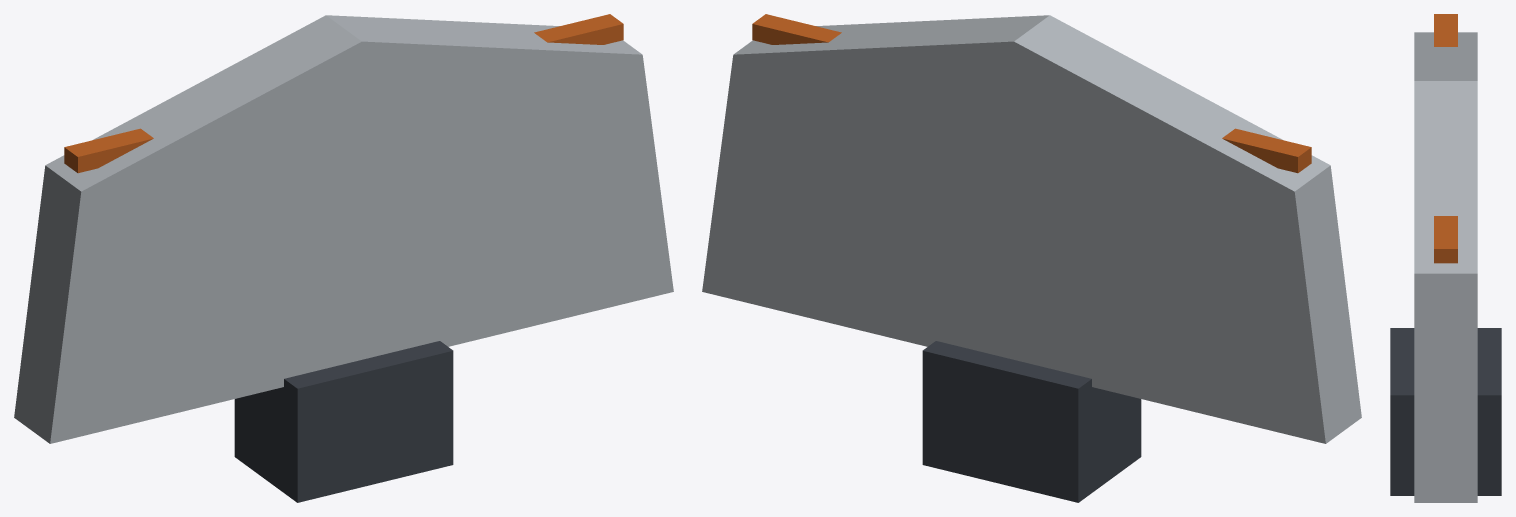
The model's file is mod-guard.glb.
3 views of the same model, side by side, from view 1: azimuth 30°, elevation 25°; view 2: azimuth 150°, elevation 25°; view 3: azimuth 270°, elevation 25° (orthographic). The views are drawn at different scales.
Parts seen in each view (by area): view 1: m; view 2: m; view 3: m.
Boxes of the visible parts, x1=… form: m: x1=14, y1=14, x2=673, y2=502; m: x1=702, y1=14, x2=1361, y2=502; m: x1=1390, y1=14, x2=1501, y2=502.
Bounding box in the file's own units: 0.08 × 0.053 × 0.014.
